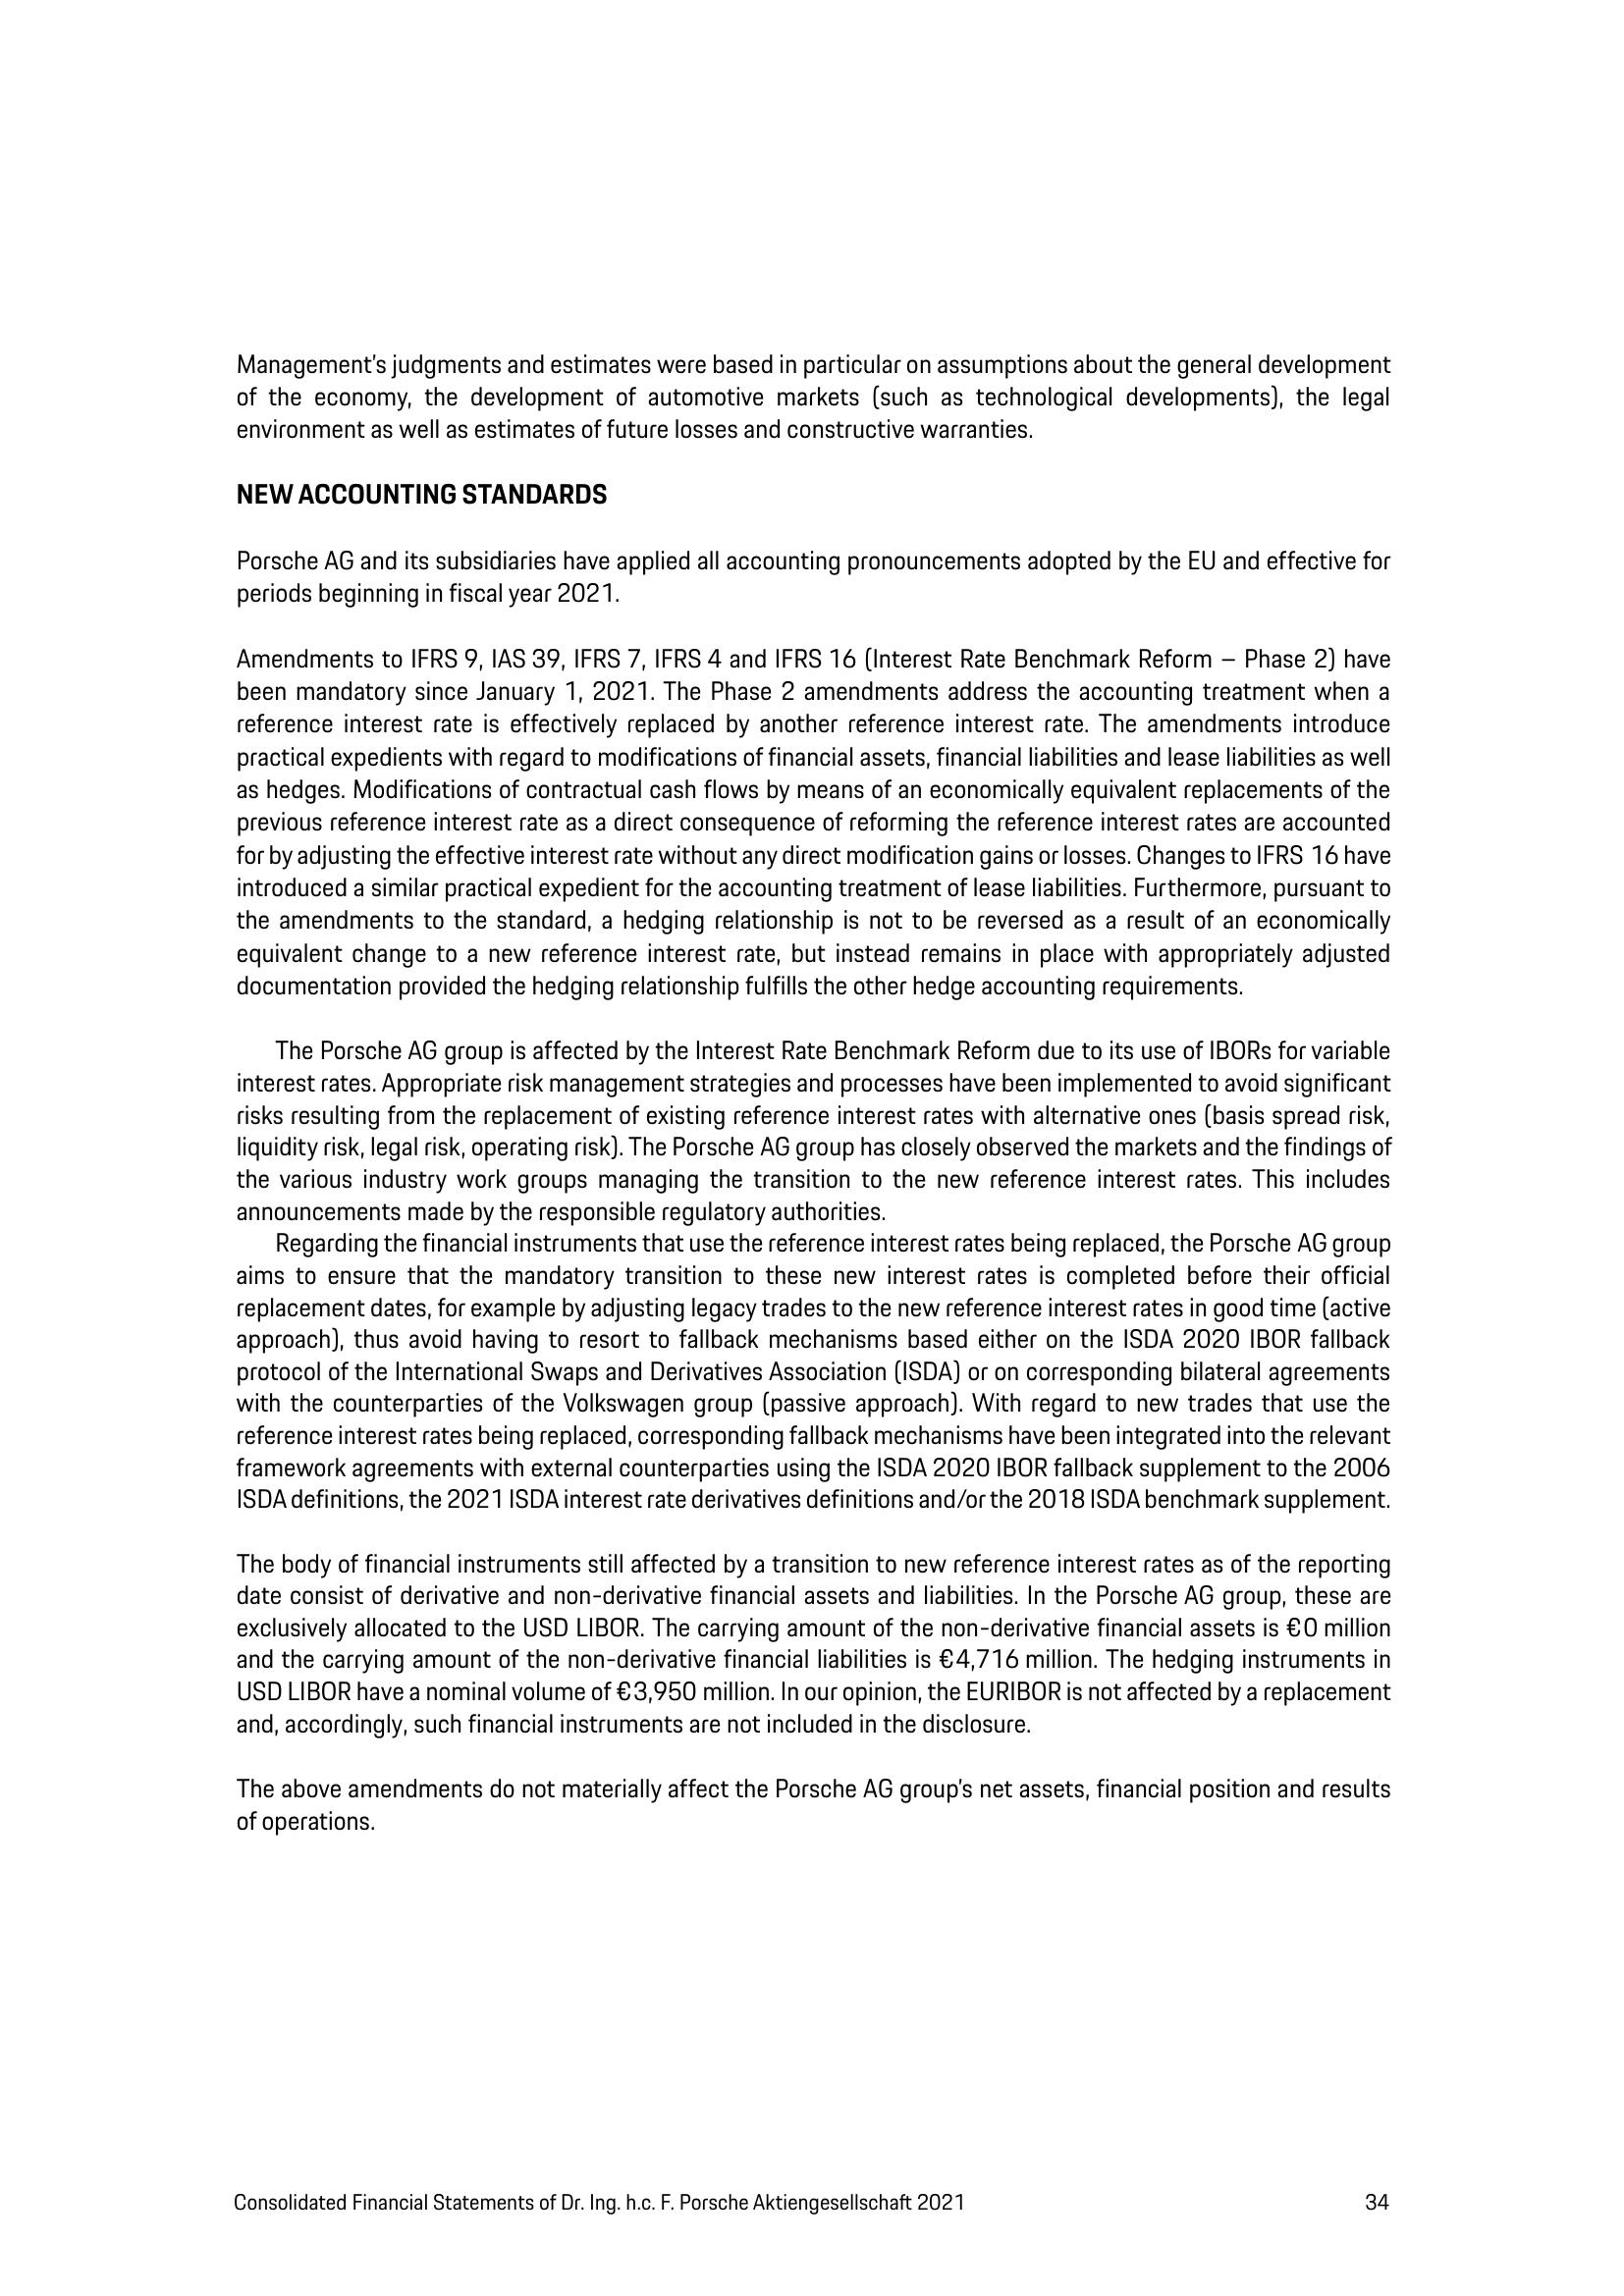Footer: (5, 2134, 1624, 2296)
Header: (0, 0, 1624, 241)
